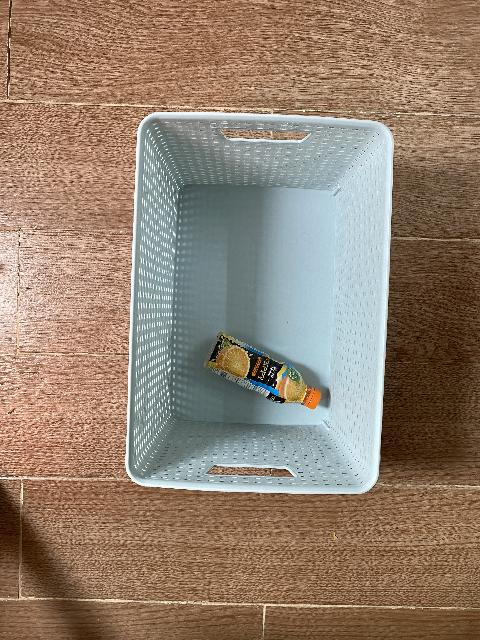cart: (126, 111, 395, 497)
teppy_orange_juice: (203, 332, 322, 410)
